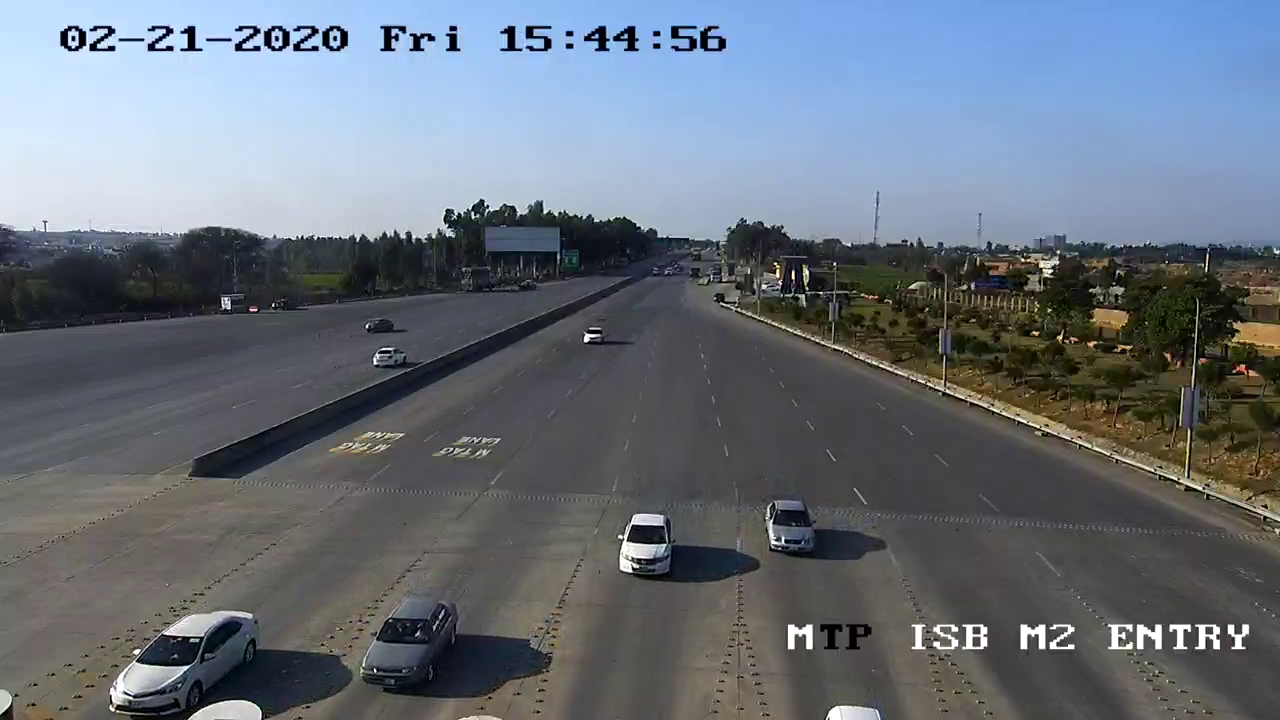f1: (89, 600, 272, 717), (348, 589, 474, 698), (754, 488, 826, 568), (612, 506, 683, 584)
